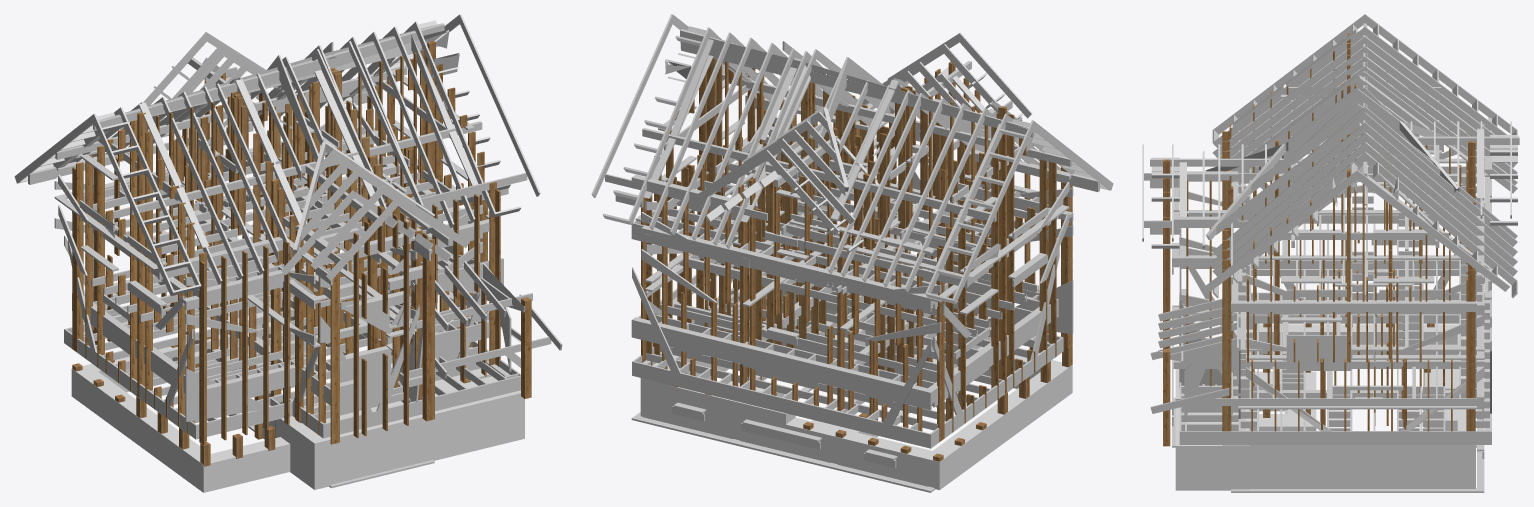
Rendered from HousePrew.fbx.
The picture shows the model from 3 angles, left to right: view 1: azimuth 30°, elevation 25°; view 2: azimuth 150°, elevation 25°; view 3: azimuth 270°, elevation 25°; orthographic projection. The views are drawn at different scales.
Parts seen in each view (by area): view 1: Material8, Material10, Material8.001, Cube, Material12; view 2: Material8, Material10, Material8.001, Material12; view 3: Material8, Material8.001, Material10, Material12, Cube.
Part boxes in pixels (left/top/right/bottom): Material8: left=14, top=20, right=532, bottom=439; Material10: left=72, top=41, right=531, bottom=466; Material8.001: left=72, top=14, right=562, bottom=488; Cube: left=276, top=375, right=524, bottom=489; Material12: left=71, top=312, right=491, bottom=492; Material8: left=603, top=26, right=1113, bottom=448; Material10: left=641, top=58, right=1072, bottom=461; Material8.001: left=591, top=14, right=1063, bottom=492; Material12: left=640, top=295, right=1072, bottom=490; Material8: left=1150, top=14, right=1519, bottom=444; Material8.001: left=1142, top=29, right=1511, bottom=492; Material10: left=1163, top=33, right=1475, bottom=446; Material12: left=1222, top=324, right=1475, bottom=488; Cube: left=1175, top=369, right=1249, bottom=490.
Size of the model in its own units: 1091 by 1000 by 1021.
3 materials, 1 textured.
